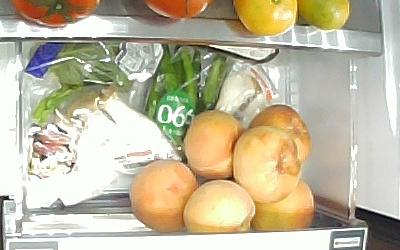peach: (235, 125, 302, 206), (128, 160, 197, 233), (182, 111, 246, 183), (182, 180, 255, 235), (249, 105, 313, 162), (250, 175, 313, 232)
